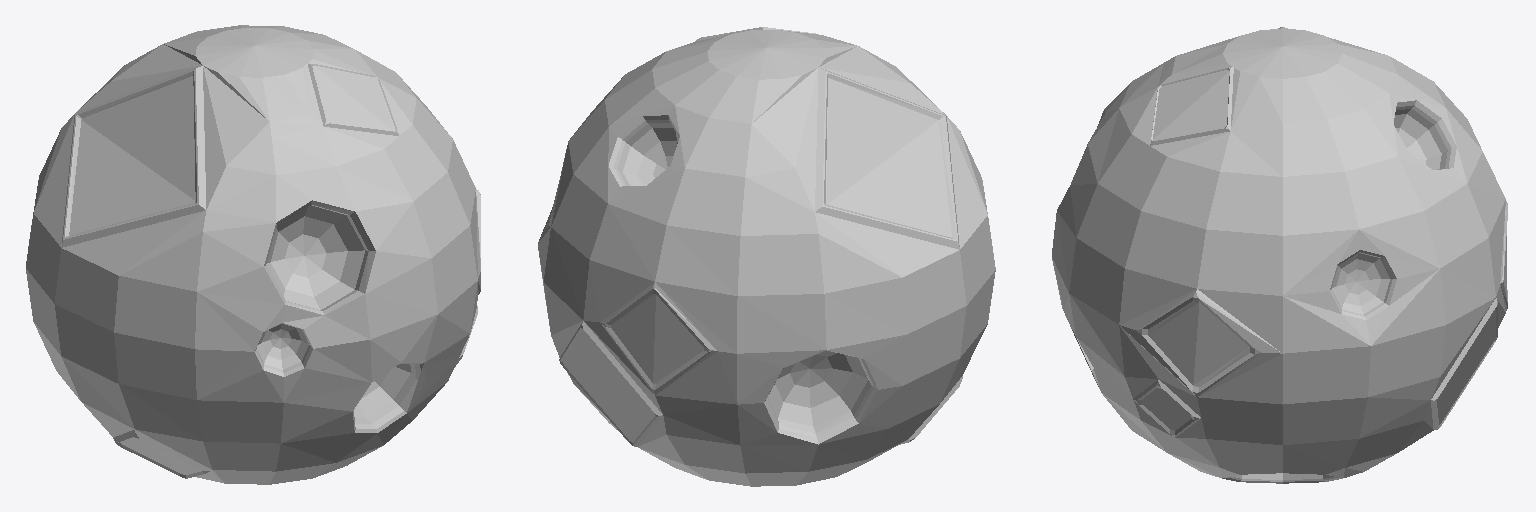
The model's file is LongshotGeodeRockMesh.obj.
3 views of the same model, side by side, from view 1: azimuth 30°, elevation 25°; view 2: azimuth 150°, elevation 25°; view 3: azimuth 270°, elevation 25° (orthographic).
Visible parts, largest first — view 1: LongshotGeodeRockMesh_Longshot_Geode_Rock; view 2: LongshotGeodeRockMesh_Longshot_Geode_Rock; view 3: LongshotGeodeRockMesh_Longshot_Geode_Rock.
Part boxes in pixels (bbox=[...]): LongshotGeodeRockMesh_Longshot_Geode_Rock: bbox=[26, 25, 480, 484]; LongshotGeodeRockMesh_Longshot_Geode_Rock: bbox=[538, 27, 995, 486]; LongshotGeodeRockMesh_Longshot_Geode_Rock: bbox=[1052, 27, 1507, 483].
Bounding box in the file's own units: 2 × 2 × 1.98.